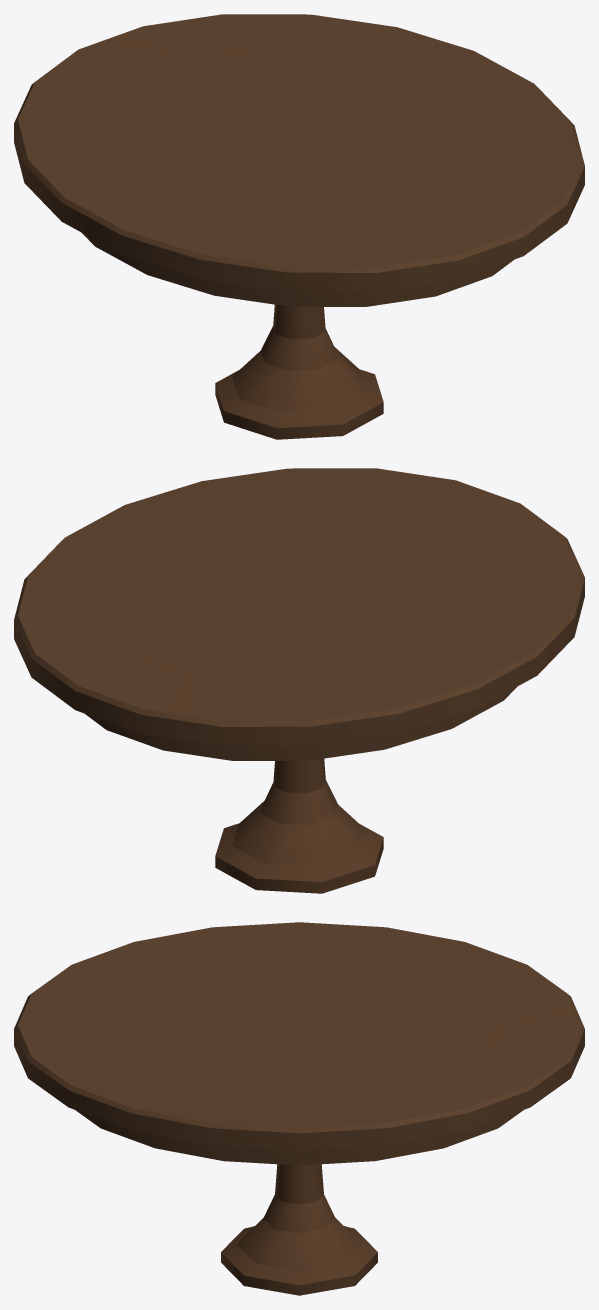
The model's file is table.round.walnut.glb.
3 renders of one model, top to bottom at view 1: azimuth 30°, elevation 25°; view 2: azimuth 150°, elevation 25°; view 3: azimuth 270°, elevation 25°, orthographic. The views are drawn at different scales.
Visible parts, largest first — view 1: table_round_walnut; view 2: table_round_walnut; view 3: table_round_walnut.
Part boxes in pixels (x1=…): table_round_walnut: x1=14, y1=14, x2=584, y2=439; table_round_walnut: x1=14, y1=468, x2=584, y2=893; table_round_walnut: x1=14, y1=922, x2=584, y2=1295.
Size of what is drawn, in the model's own units: 1.51 by 0.8 by 1.75.
